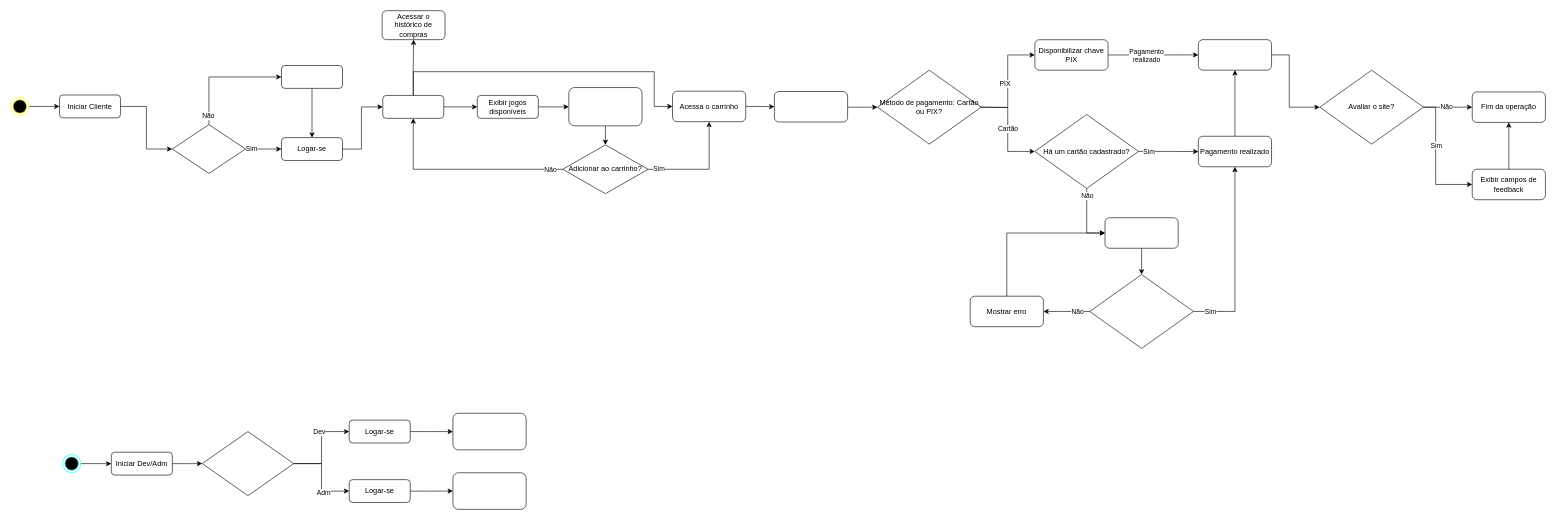
This 1556x520 diagram has some shape labels left out. Here are the shapes that lost their labels. From the top down, the box of each, then its label:
(1198, 39, 1272, 70): Disponibilizar arquivo de instalação do jogo
(281, 65, 343, 88): Cadastrar-se
(382, 95, 444, 118): Tela principal
(568, 87, 642, 126): Disponibiliza informações do jogo escolhido e suas avaliações
(774, 91, 848, 122): Pagamento
(172, 124, 246, 173): É cadastrado?
(1104, 217, 1178, 248): Pedir dados do cartão
(1089, 274, 1193, 348): Os dados estão corretos?
(202, 431, 294, 496): É desenvolvedor ou admnistrador?
